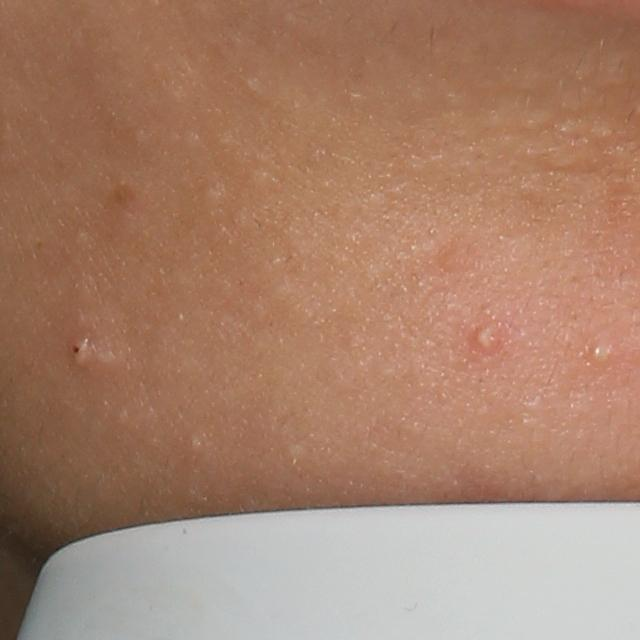comedo: (182, 435, 206, 454)
pustule: (586, 342, 617, 373)
